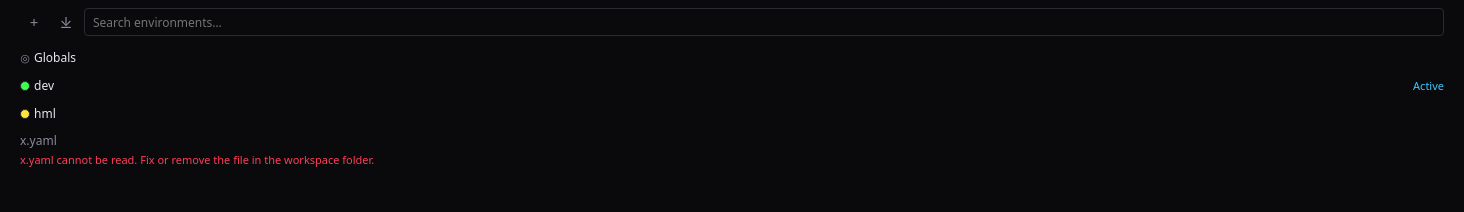
Test: EnvironmentsView › shows a duplicate name while creating and cancels with Escape
Click the button named "New Environment". click: (34, 22)
box: [20,8,48,36]
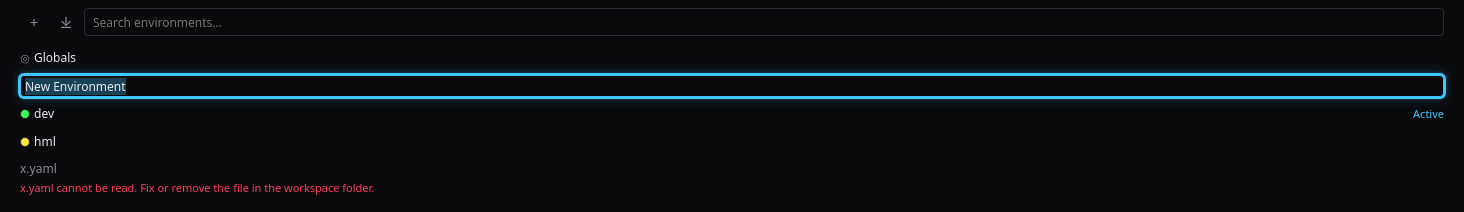
Replace the text in the field named "Name" with "DEV". click: (732, 86)
box: [20,75,1444,97]
Then press Enter
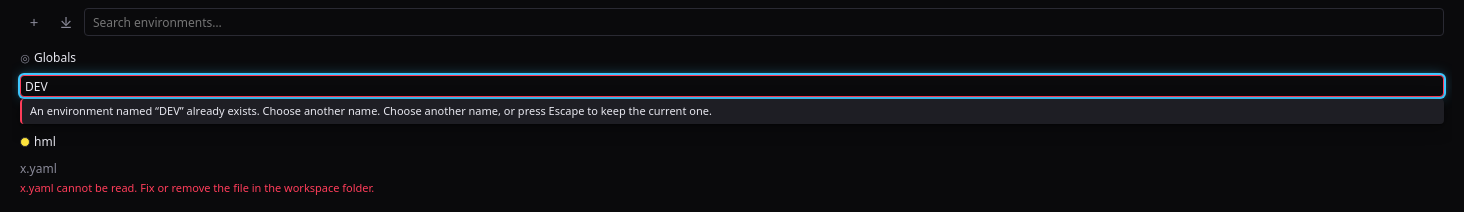
Expected: the message shows "An environment named “DEV” already exists. Choose another name.", [30,103,712,118]
Press Escape
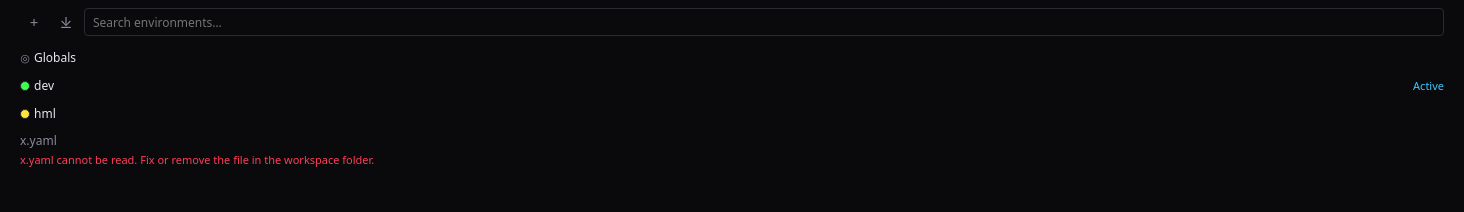
Expected: the message "name" is gone
